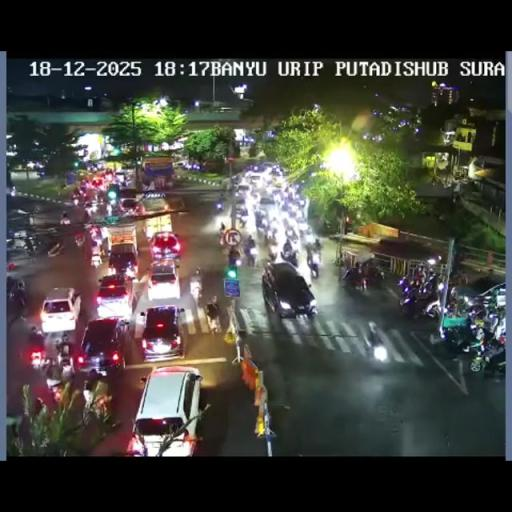Car: (126, 364, 202, 454), (78, 314, 130, 376), (262, 260, 318, 317), (138, 304, 185, 361), (40, 286, 82, 334), (95, 273, 133, 318), (146, 260, 182, 302), (107, 242, 139, 280), (148, 230, 182, 262), (475, 281, 505, 310), (118, 198, 140, 214), (258, 194, 276, 209), (234, 182, 252, 196), (114, 170, 129, 185), (246, 173, 262, 187), (174, 160, 188, 167)
Motorcycle: (224, 209, 318, 274), (436, 319, 478, 357), (467, 332, 504, 374), (400, 282, 439, 320), (82, 369, 110, 406), (364, 320, 386, 362), (6, 280, 26, 323), (54, 346, 76, 382), (26, 334, 46, 370), (34, 234, 64, 257), (344, 266, 370, 292), (466, 303, 488, 326), (490, 310, 506, 340), (46, 372, 64, 398), (78, 228, 92, 261), (206, 310, 222, 334), (306, 251, 320, 277), (285, 220, 300, 242), (450, 270, 469, 287), (188, 280, 202, 302), (281, 248, 297, 267), (302, 232, 318, 250), (33, 395, 45, 418), (227, 249, 240, 269), (24, 236, 37, 256), (100, 233, 110, 258), (267, 242, 279, 261), (90, 249, 102, 268), (246, 246, 256, 266), (265, 228, 276, 246), (256, 214, 267, 231), (216, 230, 226, 246), (96, 188, 106, 203), (192, 266, 202, 281), (85, 203, 94, 219), (214, 199, 224, 212), (78, 190, 88, 203), (237, 214, 246, 228), (36, 170, 46, 180), (106, 202, 112, 216), (219, 190, 226, 200), (72, 197, 79, 206), (60, 218, 70, 224), (10, 186, 16, 196)
